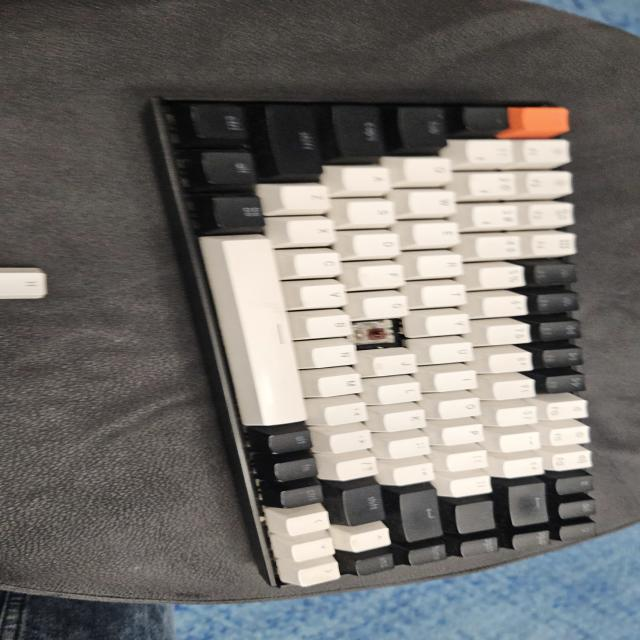C: (356, 323, 405, 345)
